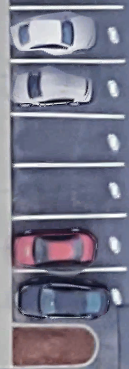Occupied: (8, 7, 125, 62), (9, 61, 125, 115), (12, 270, 125, 325), (12, 218, 126, 269)
Vacant: (10, 165, 124, 216), (10, 114, 125, 164)
